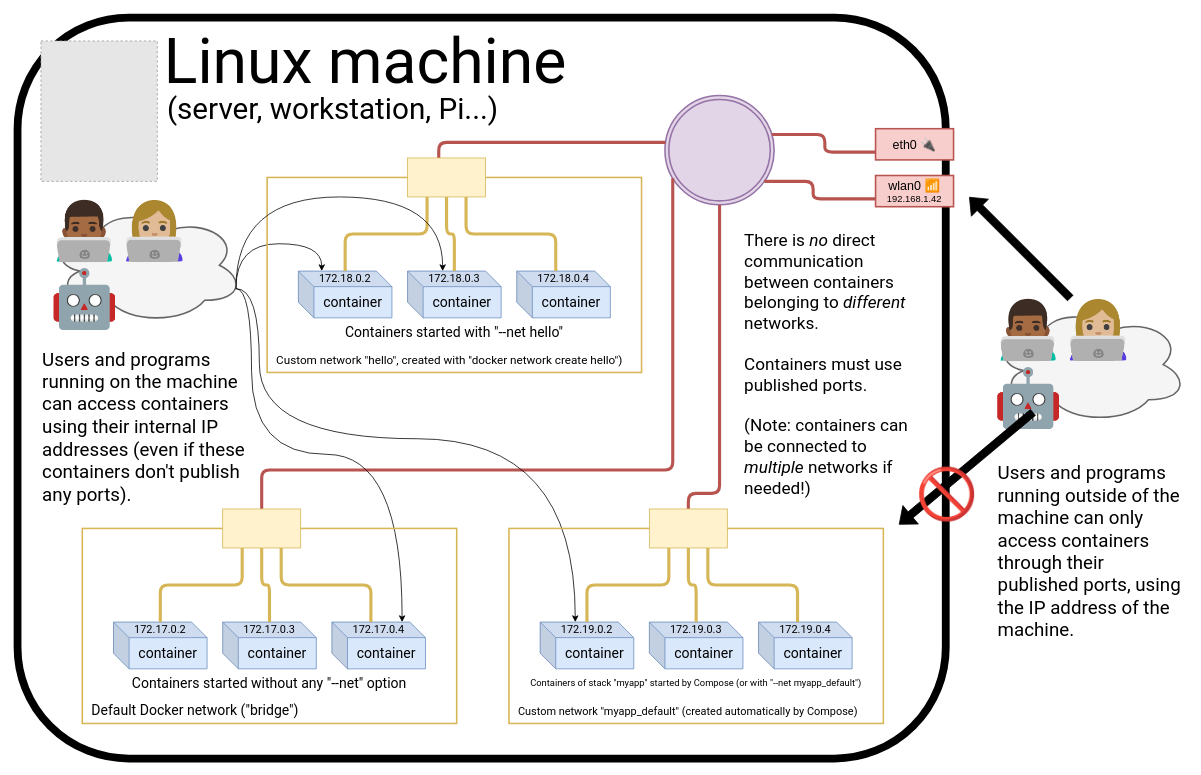
The diagram is 1201 pixels wide and 775 high, and some of its shapes have lost their labels. Grey dashed boxes stand in for pictures. Each missing label, with the centre of its shape:
br-ab12… 172.18.0.1: point (446, 177)
br-cd34… 172.19.0.1: point (688, 528)
docker0 172.17.0.1: point (261, 528)
Linux Kernel (routing, netfilter, etc.): point (719, 149)
